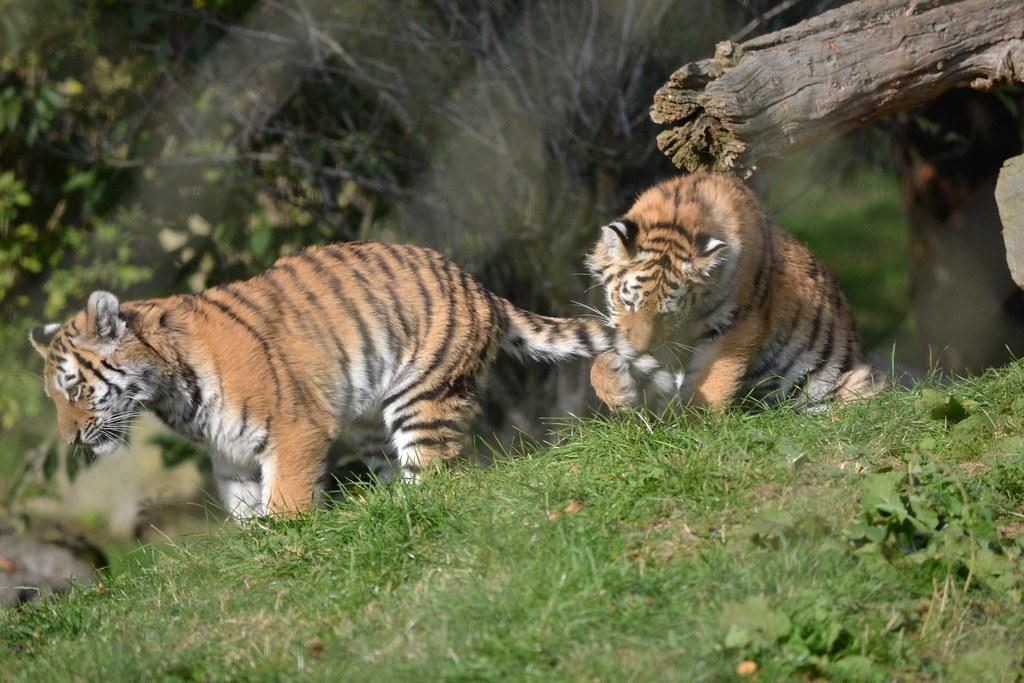tiger: (27, 238, 636, 530), (578, 169, 889, 422)
